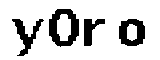0: (45, 8, 82, 50)
o: (116, 17, 149, 48)
r: (81, 15, 108, 51)
y: (10, 16, 47, 59)
